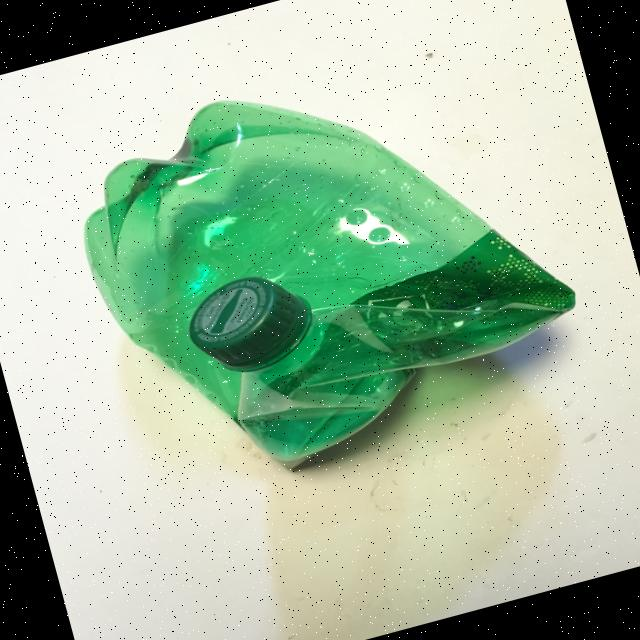plastic: (55, 23, 600, 503)
